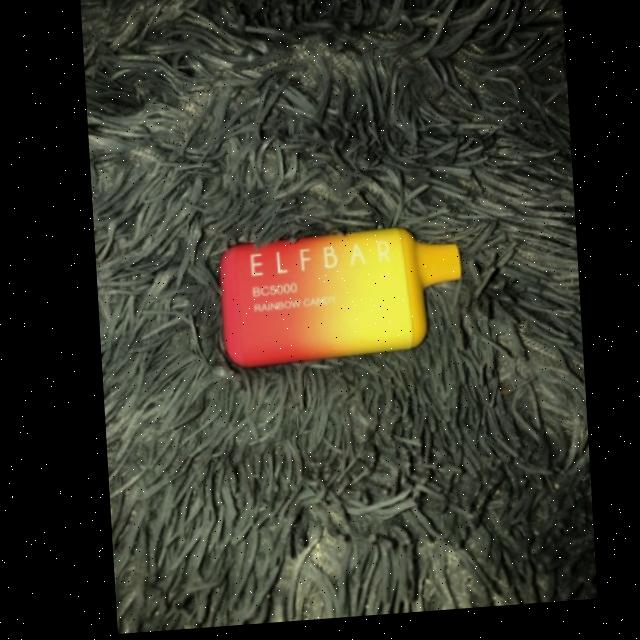vape: (214, 231, 462, 373)
